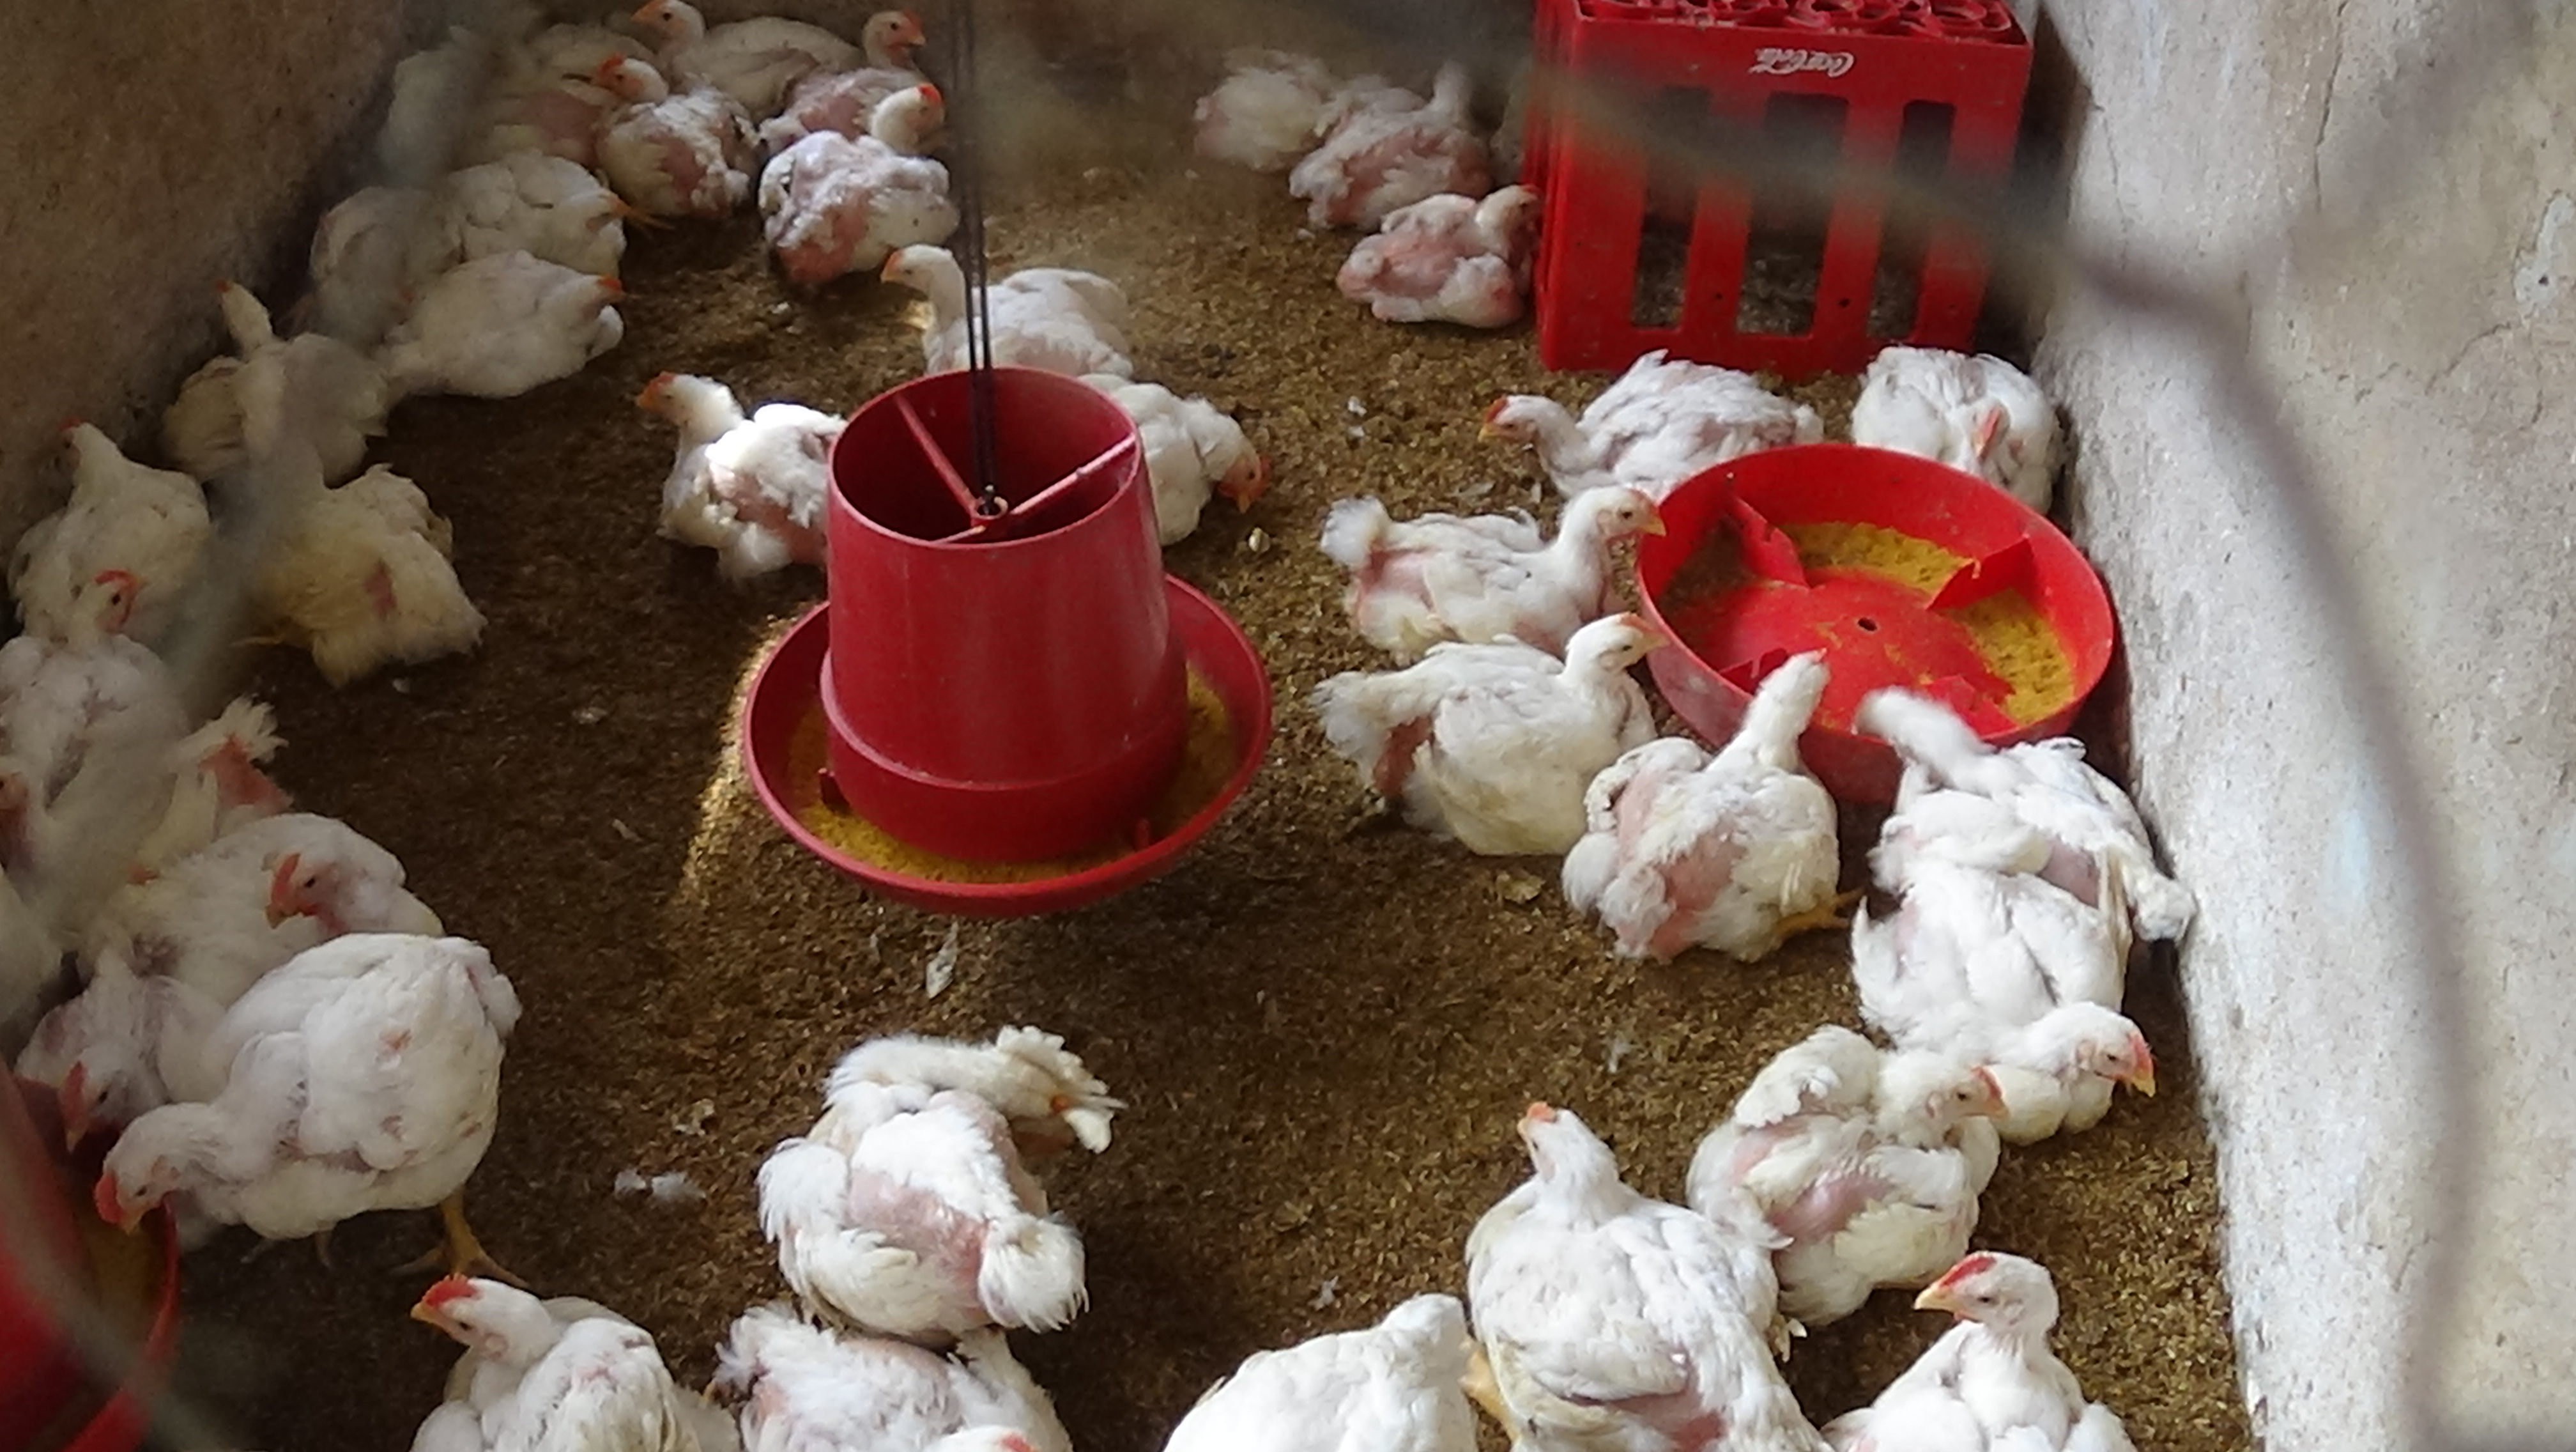Pollos: (85, 921, 533, 1300), (732, 1009, 1125, 1337), (1458, 1103, 1815, 1452), (1332, 599, 1674, 896), (1537, 637, 1854, 956), (1677, 1018, 1990, 1328), (214, 374, 499, 701), (1872, 666, 2212, 933), (1868, 878, 2173, 1151), (1826, 1240, 2143, 1452), (377, 1264, 729, 1452), (1470, 331, 1847, 489), (0, 568, 198, 862), (609, 335, 842, 581), (1824, 303, 2084, 519), (1318, 473, 1677, 629), (699, 1300, 1083, 1440), (343, 251, 648, 425), (7, 930, 216, 1163), (134, 823, 492, 956), (25, 404, 219, 629), (876, 237, 1143, 395), (161, 271, 386, 455), (763, 67, 952, 267), (1070, 374, 1286, 544), (416, 149, 639, 303), (1288, 57, 1499, 204), (1329, 195, 1562, 324), (587, 57, 757, 212), (614, 0, 858, 103), (763, 18, 948, 142)
